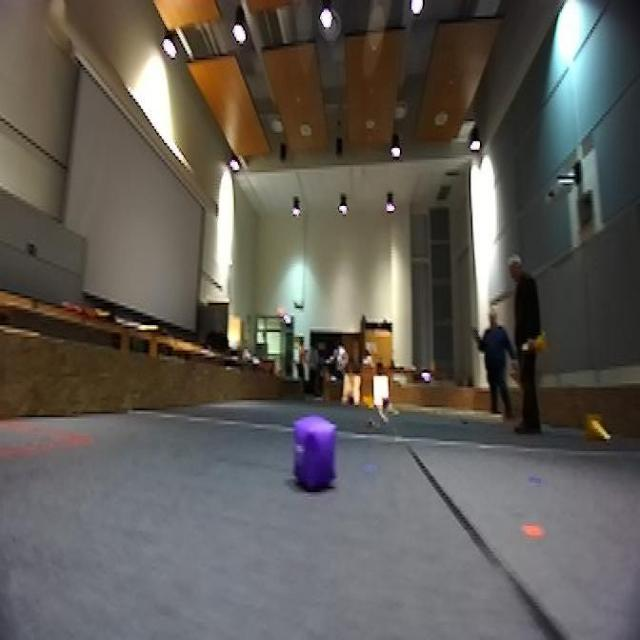frc_cone: (585, 412, 613, 441), (526, 332, 546, 354), (362, 392, 378, 408)
frc_cube: (293, 414, 340, 492), (382, 393, 396, 414), (346, 393, 358, 412)
